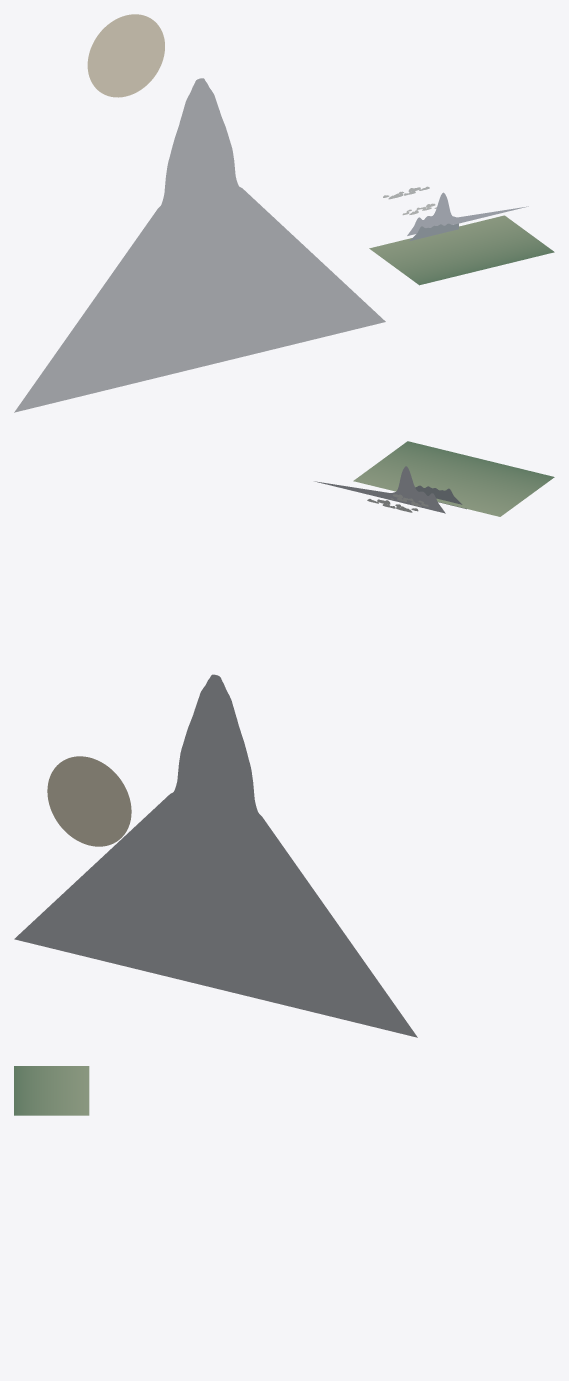
The model's file is zen_scene.glb.
3 renders of one model, top to bottom at view 1: azimuth 30°, elevation 25°; view 2: azimuth 150°, elevation 25°; view 3: azimuth 270°, elevation 25°, orthographic. The views are drawn at different scales.
Visible parts, largest first — view 1: mtn_fuji, ground_near, sun, mtn_far; view 2: mtn_fuji, ground_near, sun, mtn_far; view 3: ground_near.
Boxes of the visible parts, box(x1,y1,x2,y2) form: mtn_fuji: box(14, 78, 385, 412); ground_near: box(369, 215, 554, 285); sun: box(87, 14, 164, 97); mtn_far: box(407, 192, 528, 235); mtn_fuji: box(14, 674, 417, 1037); ground_near: box(353, 441, 554, 516); sun: box(47, 756, 131, 846); mtn_far: box(314, 466, 445, 513); ground_near: box(14, 1066, 89, 1115).
Bounding box in the file's own units: 384 × 315 × 645.
